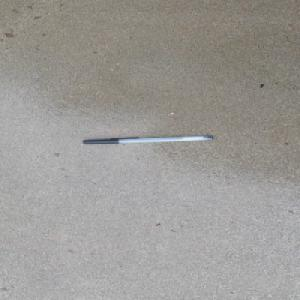Pen: (81, 135, 214, 145)
